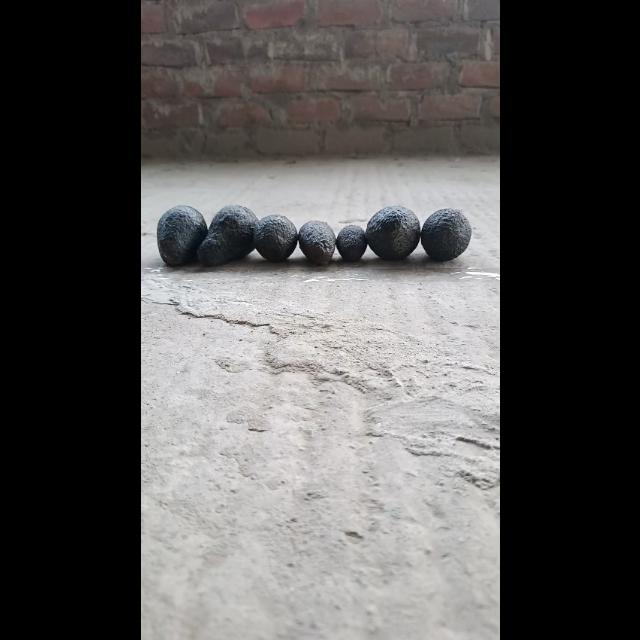Primera: (196, 205, 256, 267), (156, 204, 207, 266), (364, 204, 420, 260), (419, 207, 471, 261)
Segunda: (252, 214, 296, 262), (297, 220, 335, 264)
Tercera: (334, 224, 366, 262)
